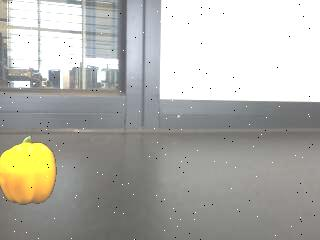Tomato: (0, 137, 57, 206)
